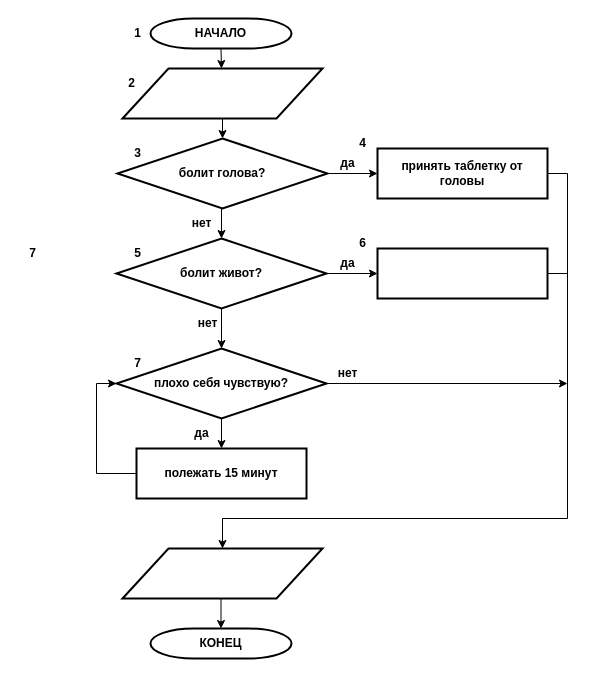
This 593x676 diagram has some shape labels left out. The shapes that lost their labels are listed below. From the top down, each one's centre as x and y in pixels, then its label:
At [222,93]: "недомогание".
At [462,273]: "принять таблетку от живота".
At [222,573]: "недомогание прошло".
